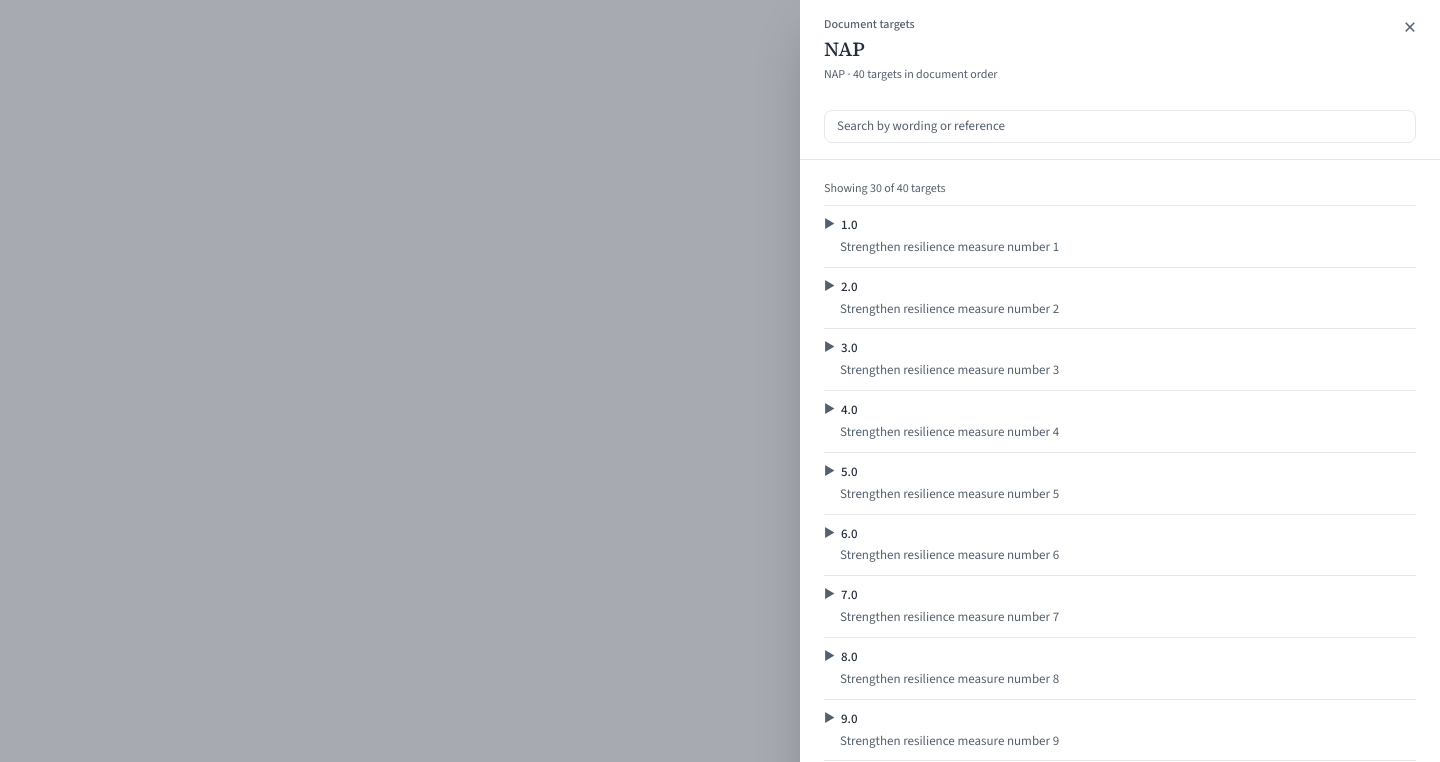
Test: DocTargetsDrawer search › narrows as the reader types
Type "number 37" into the search field named "Search these targets" at (1120,126), box left=824, top=110, right=1416, bottom=143
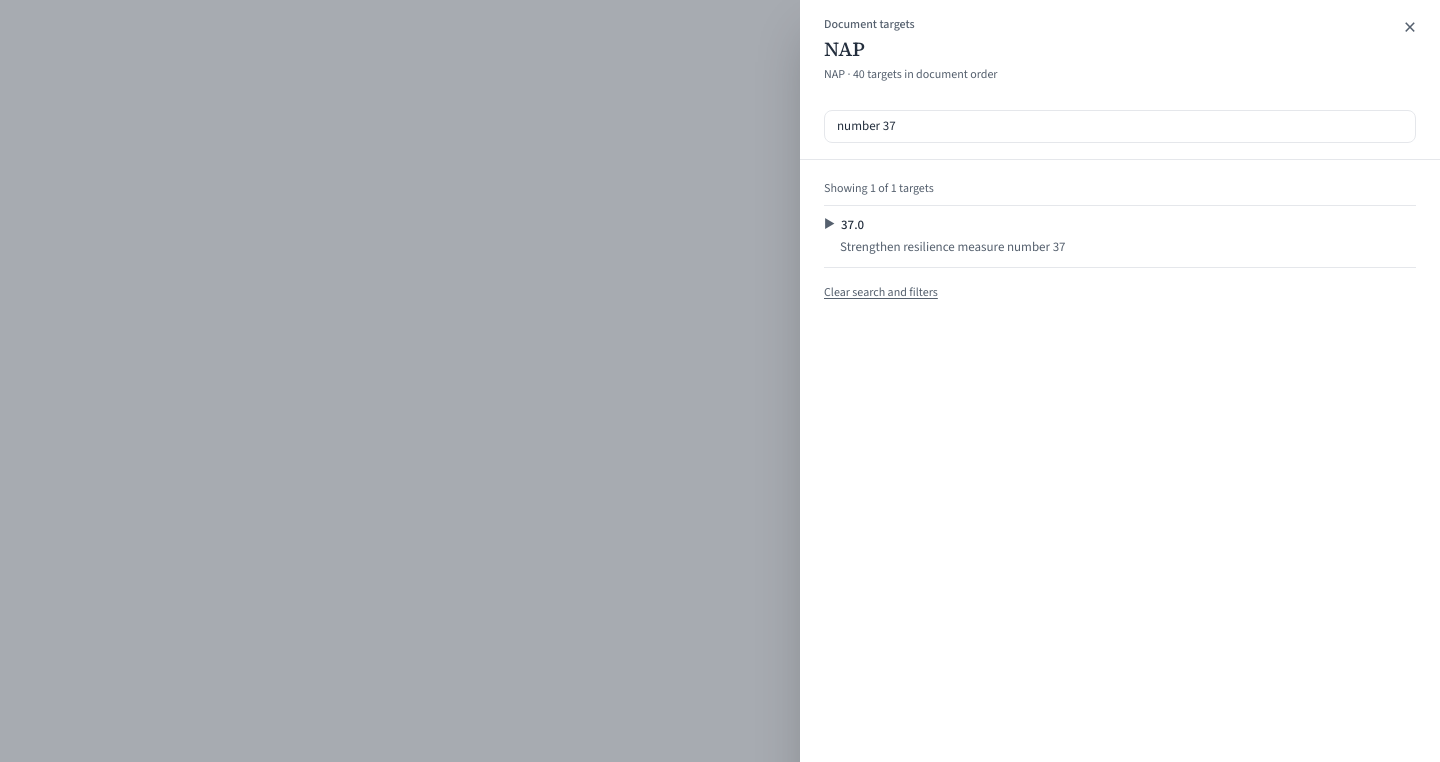
Expected: the text "Showing 1 of 1 targets" is shown, left=824, top=180, right=934, bottom=197
